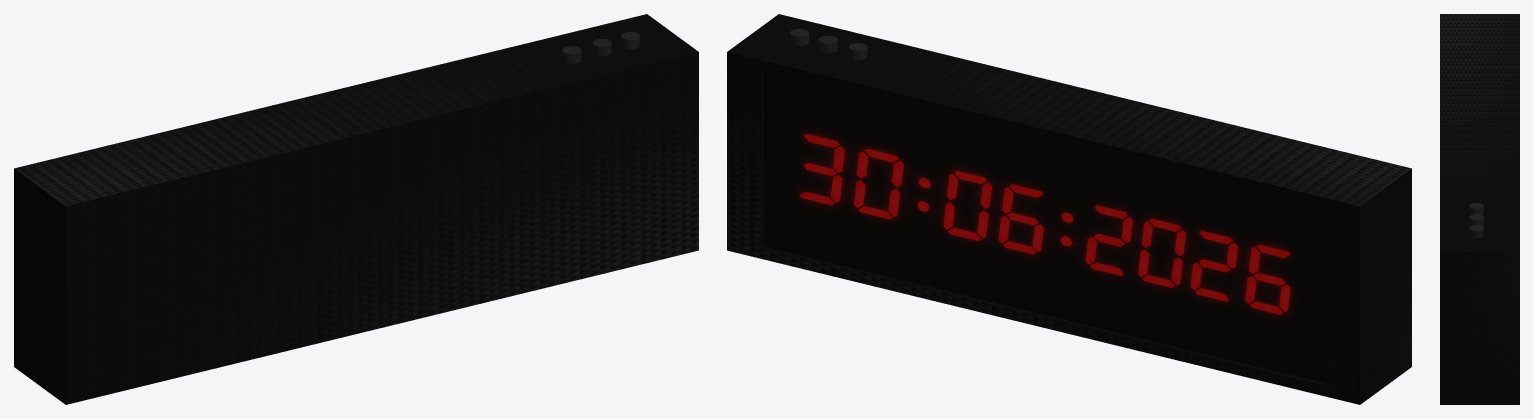
File: calender.fbx
3 views of the same model, side by side, from view 1: azimuth 30°, elevation 25°; view 2: azimuth 150°, elevation 25°; view 3: azimuth 270°, elevation 25° (orthographic). The views are drawn at different scales.
Visible parts, largest first — view 1: Body, Button; view 2: Screen, Body, Button; view 3: Body, Button.
Boxes of the visible parts, bbox=[...] form: Body: bbox=[14, 14, 698, 404]; Button: bbox=[562, 32, 639, 63]; Screen: bbox=[764, 72, 1325, 383]; Body: bbox=[727, 14, 1411, 404]; Button: bbox=[790, 28, 867, 60]; Body: bbox=[1440, 14, 1519, 404]; Button: bbox=[1469, 202, 1483, 238].
Bounding box in the file's own units: 308 × 96.92 × 43.76.
3 materials, 3 textured.
